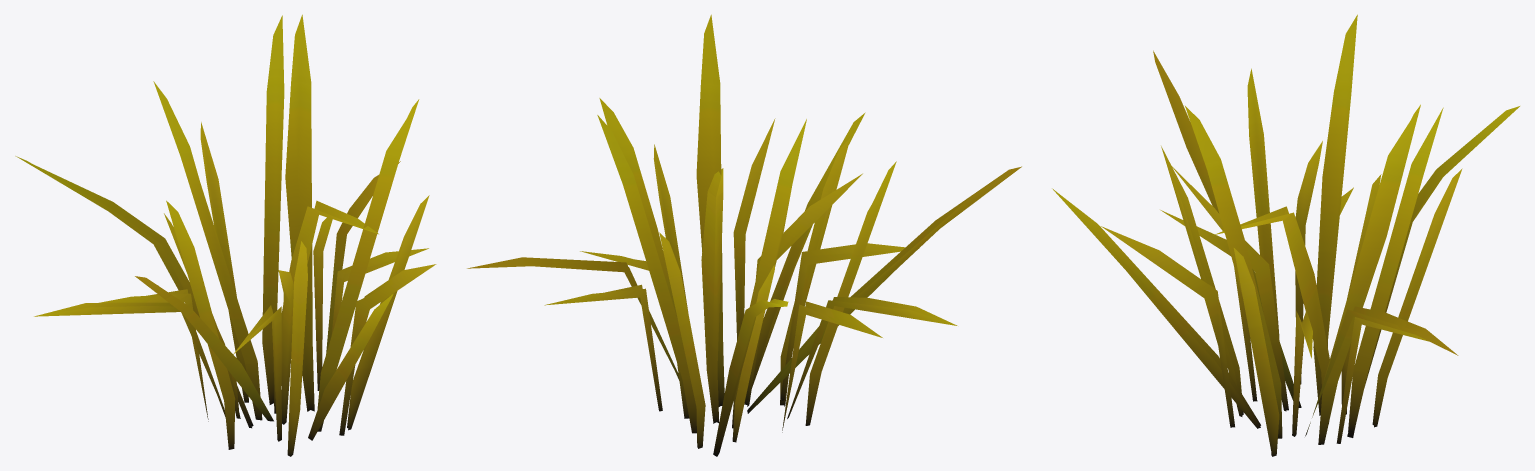
The model's file is Grass_Wispy_Short.gltf.
3 renders of one model, left to right at view 1: azimuth 30°, elevation 25°; view 2: azimuth 150°, elevation 25°; view 3: azimuth 270°, elevation 25°, orthographic. The views are drawn at different scales.
Parts seen in each view (by area): view 1: Grass_Wispy_Short; view 2: Grass_Wispy_Short; view 3: Grass_Wispy_Short.
Part boxes in pixels (x1,y1,x2,y2): Grass_Wispy_Short: (15, 14, 436, 456); Grass_Wispy_Short: (467, 14, 1021, 456); Grass_Wispy_Short: (1052, 14, 1519, 456).
Bounding box in the file's own units: 1.32 × 1.07 × 1.21.
Materials: 1 (1 with a texture image).
